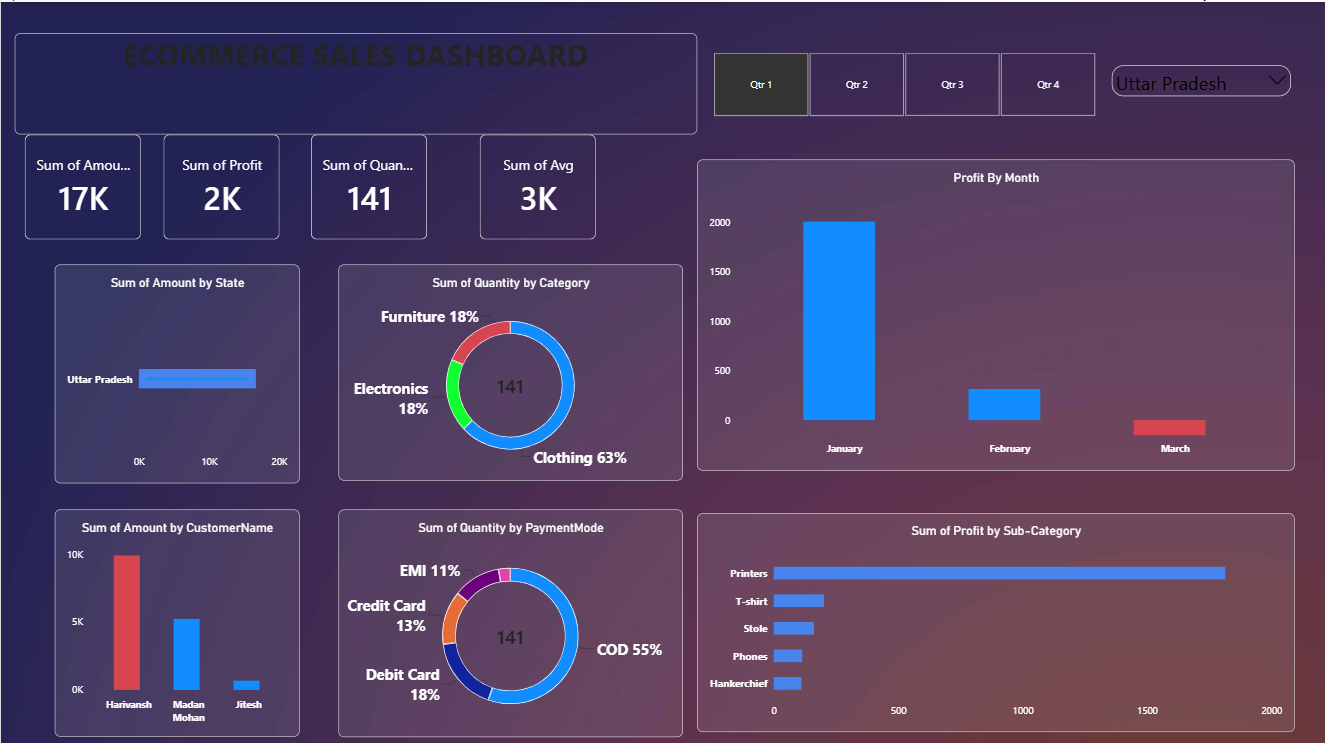

The dashboard page shown, as its layout file describes it:
{"tool":"powerbi","page":{"name":"Page 1","canvas":[1920,1080],"ordinal":0},"visuals":[{"type":"textbox","box":[20.6,45.3,988,146.1],"z":0},{"type":"columnChart","title":" Profit By Month","fields":{"Category":["Orders.Order Date.Variation.Date Hierarchy.Month"],"Y":["Sum(Details.Profit)"]},"box":[1008.6,228.5,864.5,450.8],"z":1000},{"type":"barChart","fields":{"Category":["Details.Sub-Category"],"Y":["Sum(Details.Profit)"]},"box":[1008.6,741,864.5,317],"z":2000},{"type":"donutChart","fields":{"Category":["Details.Category"],"Y":["Sum(Details.Quantity)"]},"box":[487.8,380.8,498.1,312.9],"z":3000},{"type":"donutChart","fields":{"Category":["Details.PaymentMode"],"Y":["Sum(Details.Quantity)"]},"box":[487.8,734.8,498.1,329.3],"z":4000},{"type":"cardVisual","fields":{"Data":["Sum(Details.Amount)"]},"box":[35,191.4,168.8,152.3],"z":5000},{"type":"cardVisual","fields":{"Data":["Sum(Details.Avg)"]},"box":[693.7,191.4,168.8,152.3],"z":6000},{"type":"cardVisual","fields":{"Data":["Sum(Details.Quantity)"]},"box":[448.7,191.4,168.8,152.3],"z":7000},{"type":"cardVisual","fields":{"Data":["Sum(Details.Profit)"]},"box":[234.6,191.4,168.8,152.3],"z":8000},{"type":"barChart","fields":{"Category":["Orders.State"],"Y":["Sum(Details.Amount)"]},"box":[78.2,380.8,354,317],"z":9000},{"type":"clusteredColumnChart","fields":{"Category":["Orders.CustomerName"],"Y":["Sum(Details.Amount)"]},"box":[78.2,734.8,354,329],"z":10000},{"type":"slicer","fields":{"Values":["Orders.Order Date.Variation.Date Hierarchy.Quarter"]},"box":[1013,74.1,590.7,90.6],"z":11000},{"type":"slicer","fields":{"Values":["Orders.State"]},"box":[1603.4,86.4,269.6,105],"z":12000}]}

Visuals, with their boxes in screenshot pixels (x1, y1, x2, y2), scaled from the page's 1920x1080 canvas onto the 1325x743 screenshot:
textbox: 14/31/696/132
" Profit By Month" columnChart: 696/157/1293/467
barChart - Details.Sub-Category x Sum(Details.Profit): 696/510/1293/728
donutChart - Details.Category x Sum(Details.Quantity): 337/262/680/477
donutChart - Details.PaymentMode x Sum(Details.Quantity): 337/506/680/732
cardVisual - Sum(Details.Amount): 24/132/141/236
cardVisual - Sum(Details.Avg): 479/132/595/236
cardVisual - Sum(Details.Quantity): 310/132/426/236
cardVisual - Sum(Details.Profit): 162/132/278/236
barChart - Orders.State x Sum(Details.Amount): 54/262/298/480
clusteredColumnChart - Orders.CustomerName x Sum(Details.Amount): 54/506/298/732
slicer - Orders.Order Date.Variation.Date Hierarchy.Quarter: 699/51/1107/113
slicer - Orders.State: 1107/59/1293/132
